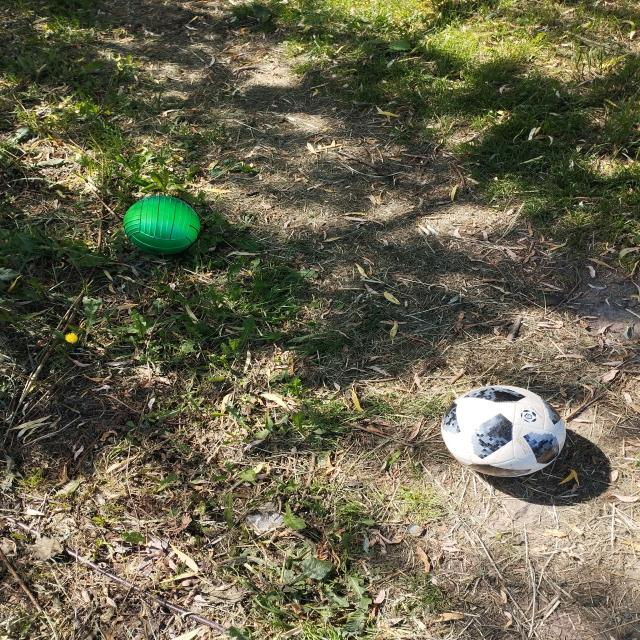zielona: (123, 195, 200, 255)
